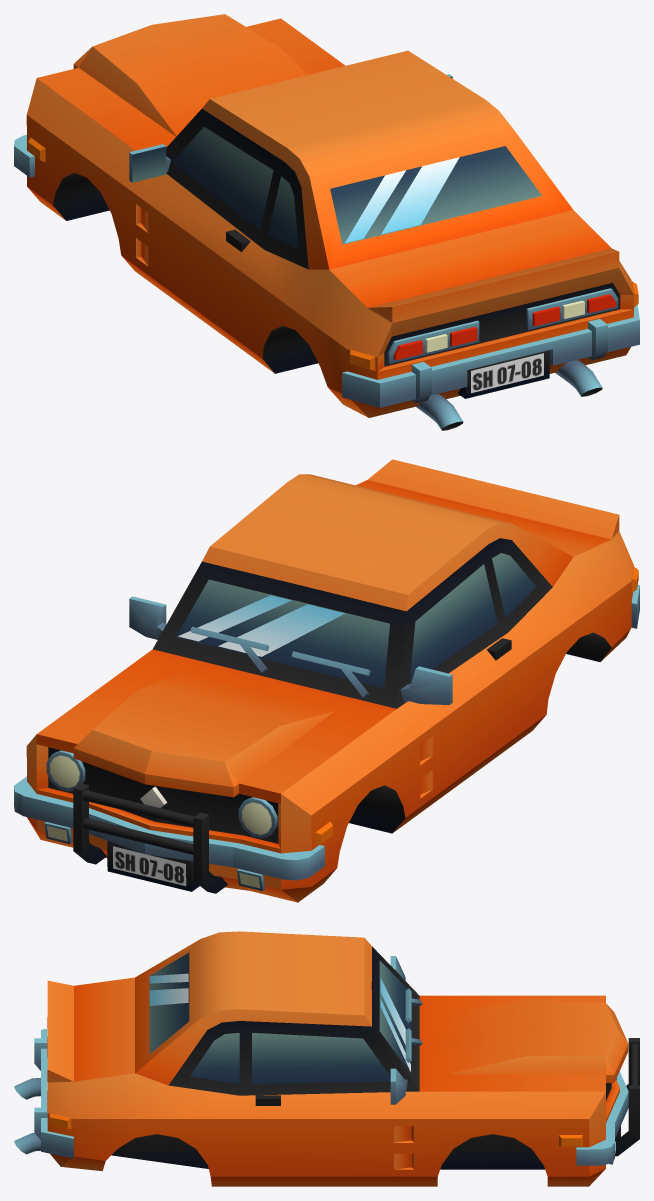
Rendered from car20.glb.
3 renders of one model, top to bottom at view 1: azimuth 30°, elevation 25°; view 2: azimuth 150°, elevation 25°; view 3: azimuth 270°, elevation 25°, orthographic. The views are drawn at different scales.
Parts seen in each view (by area): view 1: model_10; view 2: model_10; view 3: model_10.
Boxes of the visible parts, box(x1,y1,x2,y2) form: model_10: box(14, 14, 639, 430); model_10: box(14, 459, 639, 902); model_10: box(14, 931, 639, 1186).
Size of the model in its own units: 149 by 91.39 by 313.
Materials: 1 (1 with a texture image).
